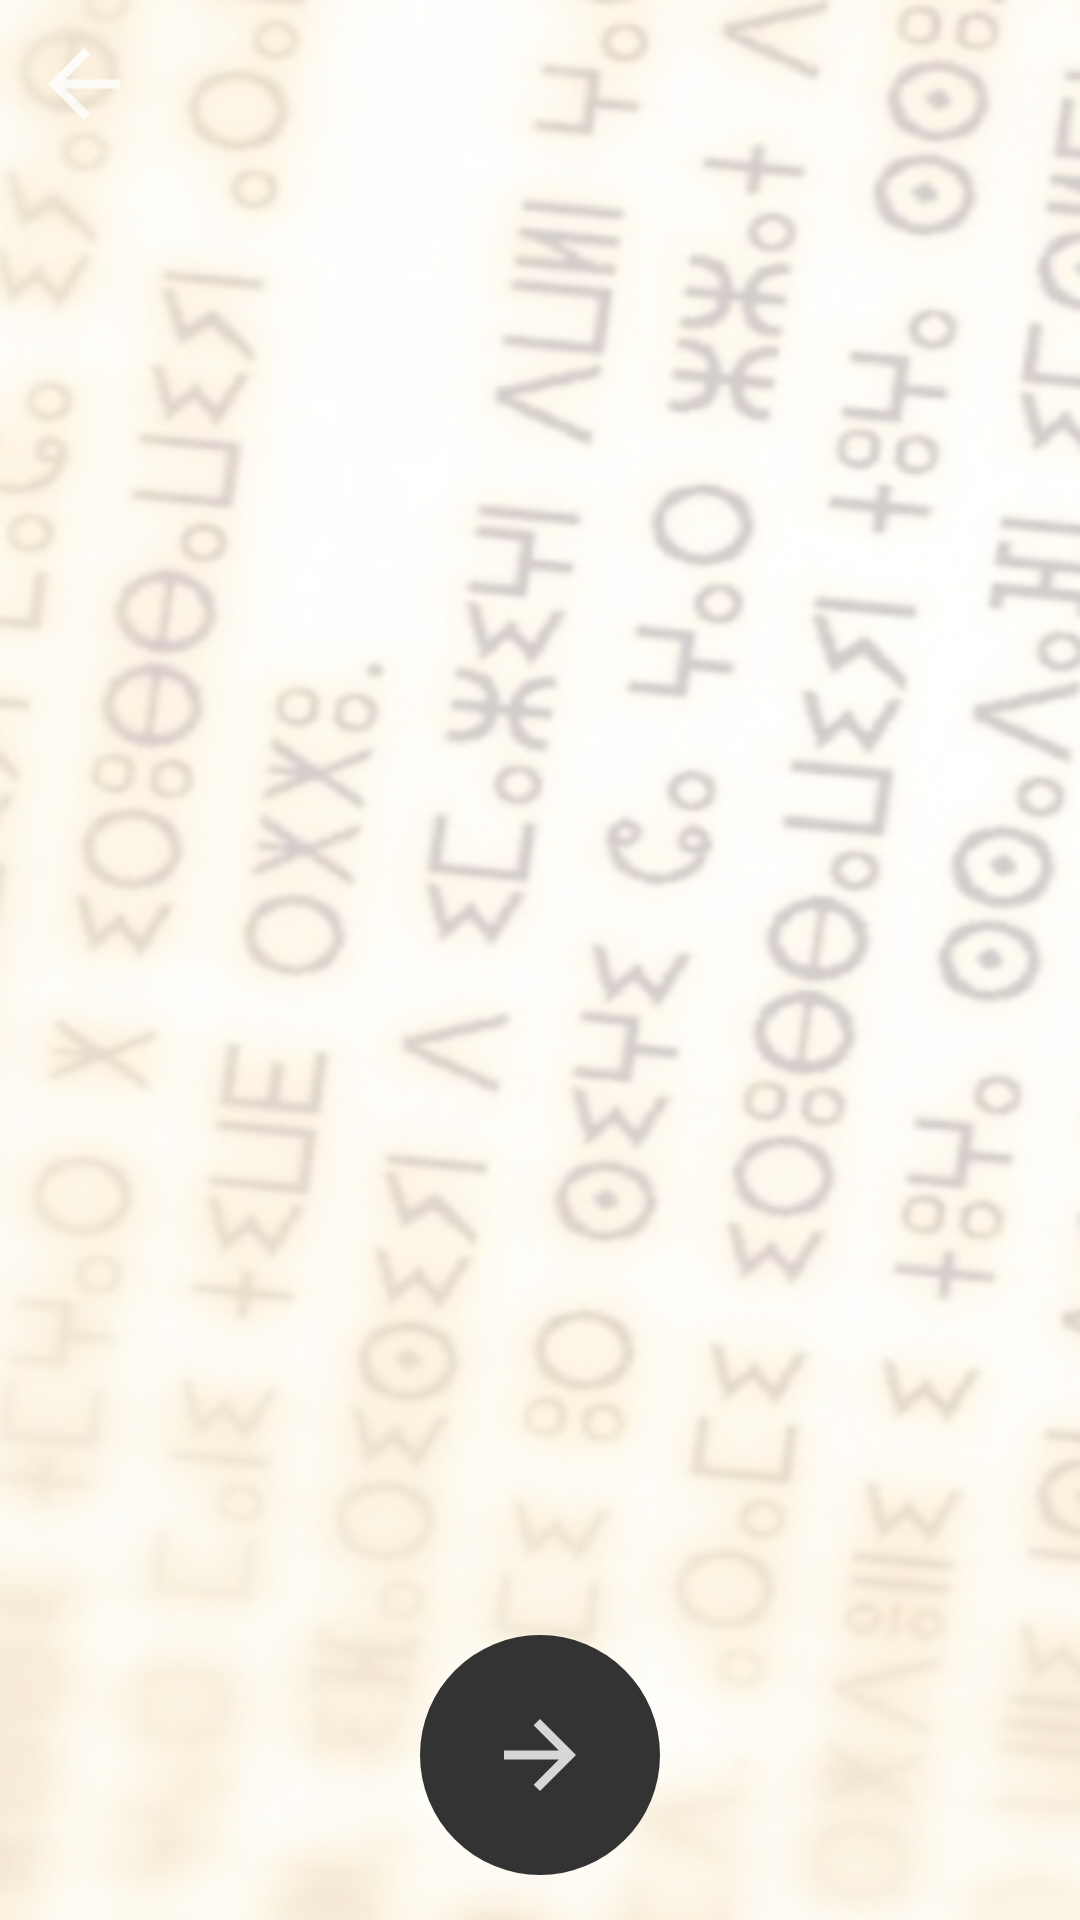

Screen size 1080×1920. Icon name, then its box in pixels as bbox=[x1, y1, x2, y2]:
arrow: bbox=[420, 1635, 660, 1875]
